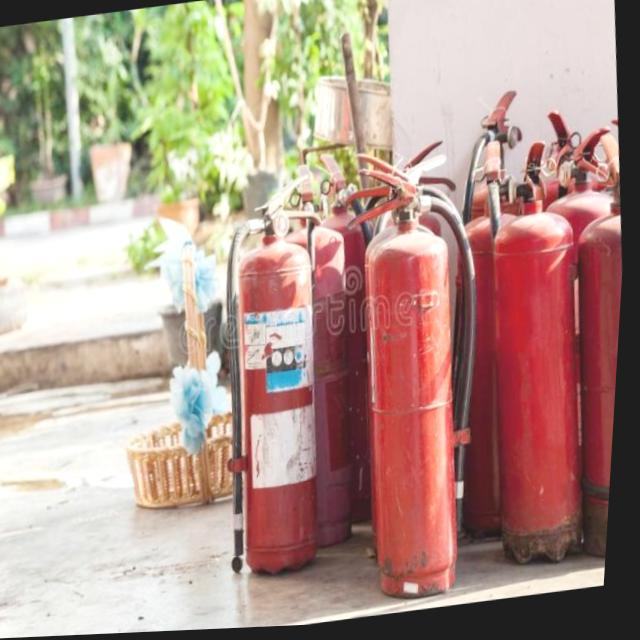FireExtinguisher: (328, 146, 519, 612), (461, 136, 619, 576), (200, 166, 357, 594), (236, 142, 389, 565), (548, 129, 633, 576)
